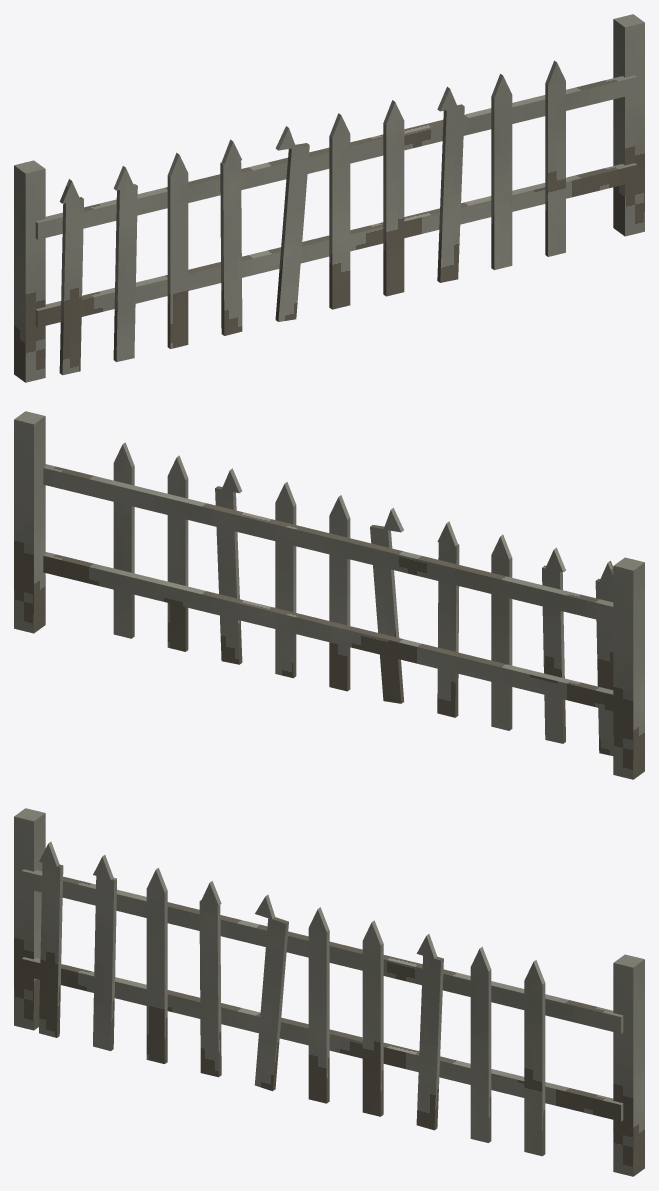
The model's file is town_picket_fence.glb.
The picture shows the model from 3 angles, top to bottom: view 1: azimuth 30°, elevation 25°; view 2: azimuth 150°, elevation 25°; view 3: azimuth 330°, elevation 25°; orthographic projection.
Visible parts, largest first — view 1: detail, fence-col; view 2: fence-col, detail; view 3: detail, fence-col.
Boxes of the visible parts, x1,y1,x2,y2 form: detail: [59, 60, 565, 375]; fence-col: [14, 14, 644, 382]; fence-col: [14, 411, 644, 779]; detail: [113, 442, 613, 755]; detail: [39, 841, 545, 1156]; fence-col: [14, 808, 644, 1176].
Size of the model in its own units: 3.1 by 1 by 0.1525.
1 material, 1 textured.
